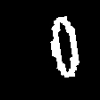chain: (51, 16, 78, 76)
